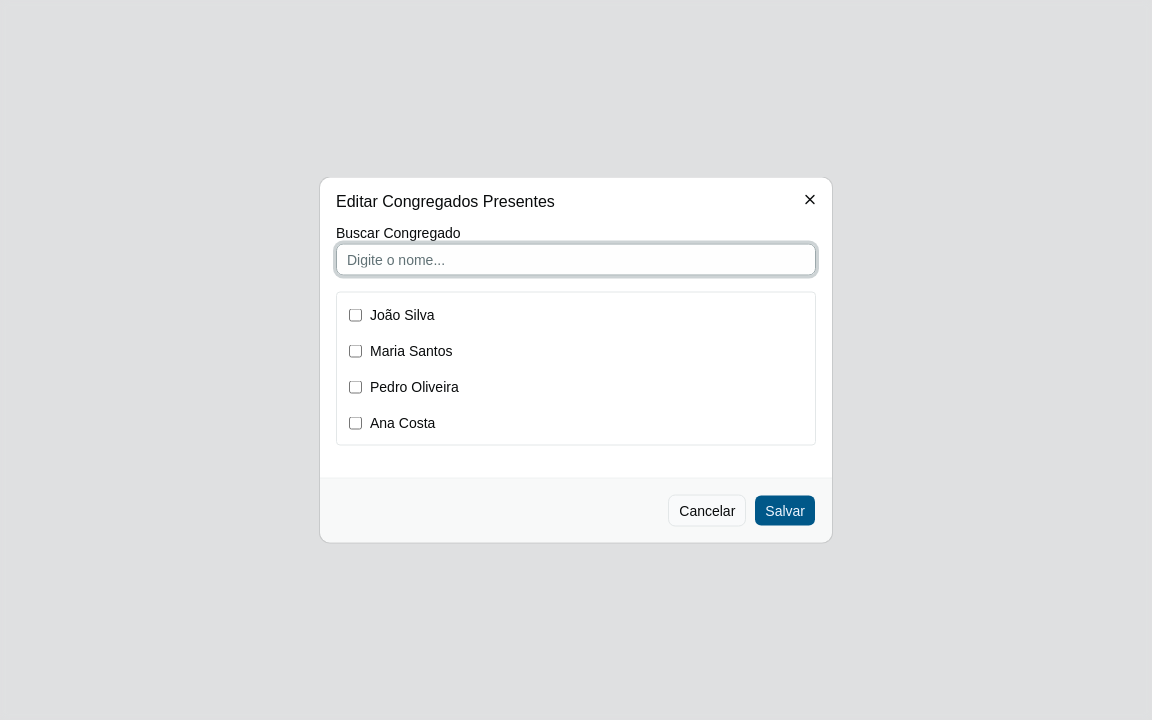
Test: EditAttendersDialog › displays no results message when search has no matches
In the field with placeholder "Digite o nome...": coordinates (576, 260) [336,244,816,276], type "Nonexistent"
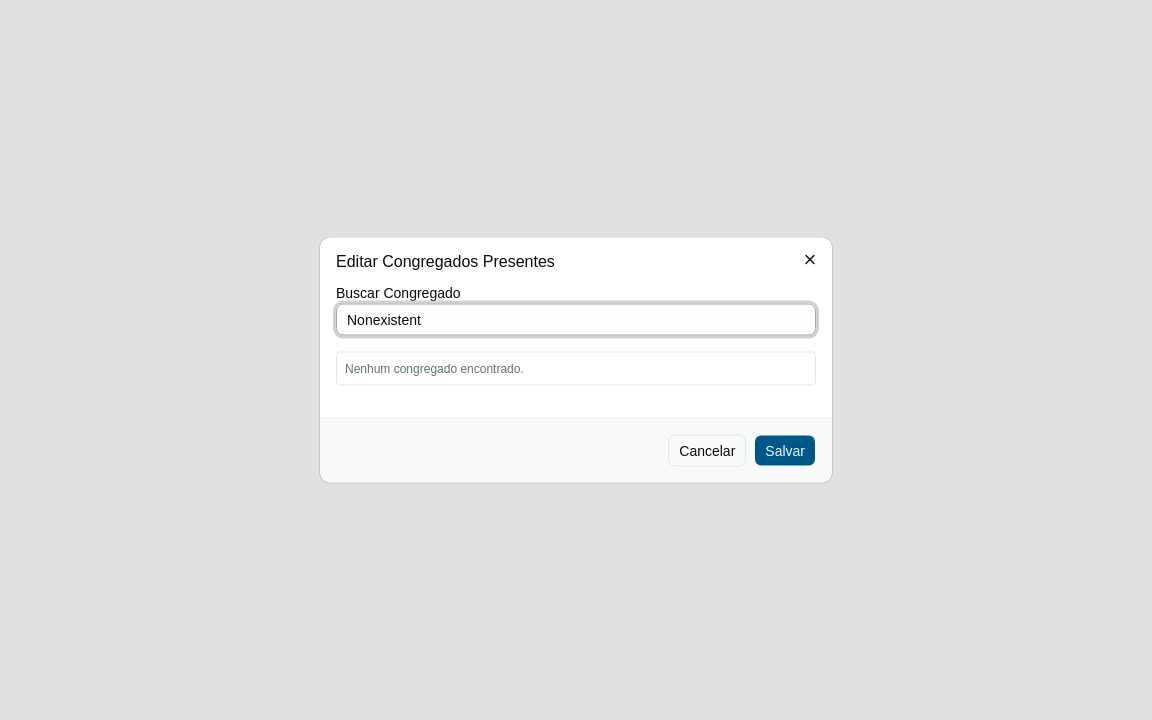
Result: the text "Nenhum congregado encontrado." is shown at [345,362,524,376]
